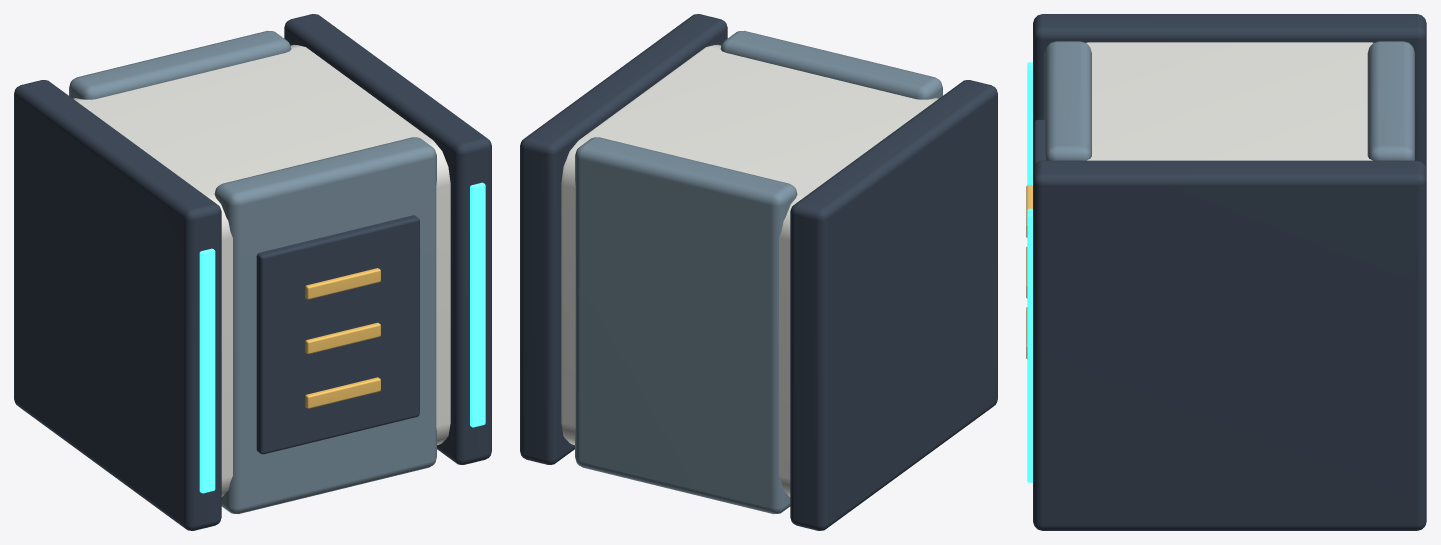
File: forge-module.glb
3 views of the same model, side by side, from view 1: azimuth 30°, elevation 25°; view 2: azimuth 150°, elevation 25°; view 3: azimuth 270°, elevation 25° (orthographic). The views are drawn at different scales.
Parts seen in each view (by area): view 1: ceramic-shell; view 2: ceramic-shell; view 3: ceramic-shell.
Boxes of the visible parts, <box> form: ceramic-shell: <box>14,14,491,530</box>; ceramic-shell: <box>520,14,997,530</box>; ceramic-shell: <box>1026,14,1426,530</box>.
Size of the model in its own units: 1 by 1 by 1.02.
